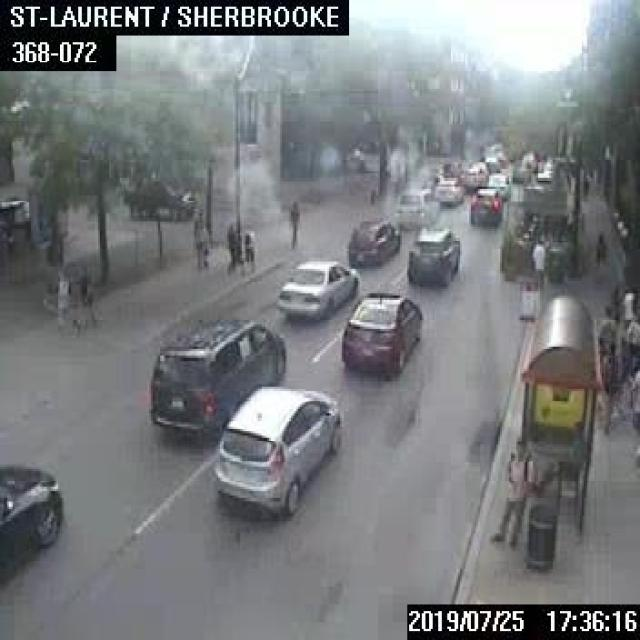pedestrian: (487, 438, 533, 549), (56, 262, 100, 334), (531, 233, 544, 296), (191, 209, 205, 267), (287, 198, 300, 249), (222, 222, 236, 269), (594, 229, 606, 282), (242, 226, 254, 267)
vehicle: (212, 383, 344, 515), (148, 316, 283, 443), (0, 460, 62, 578), (338, 287, 422, 373), (276, 258, 358, 316), (119, 173, 201, 220), (406, 223, 459, 285), (347, 214, 398, 262), (396, 185, 438, 228), (0, 196, 31, 248), (468, 187, 502, 225), (435, 174, 463, 205), (460, 166, 484, 192), (486, 172, 508, 199), (534, 170, 551, 187), (483, 154, 499, 170)
